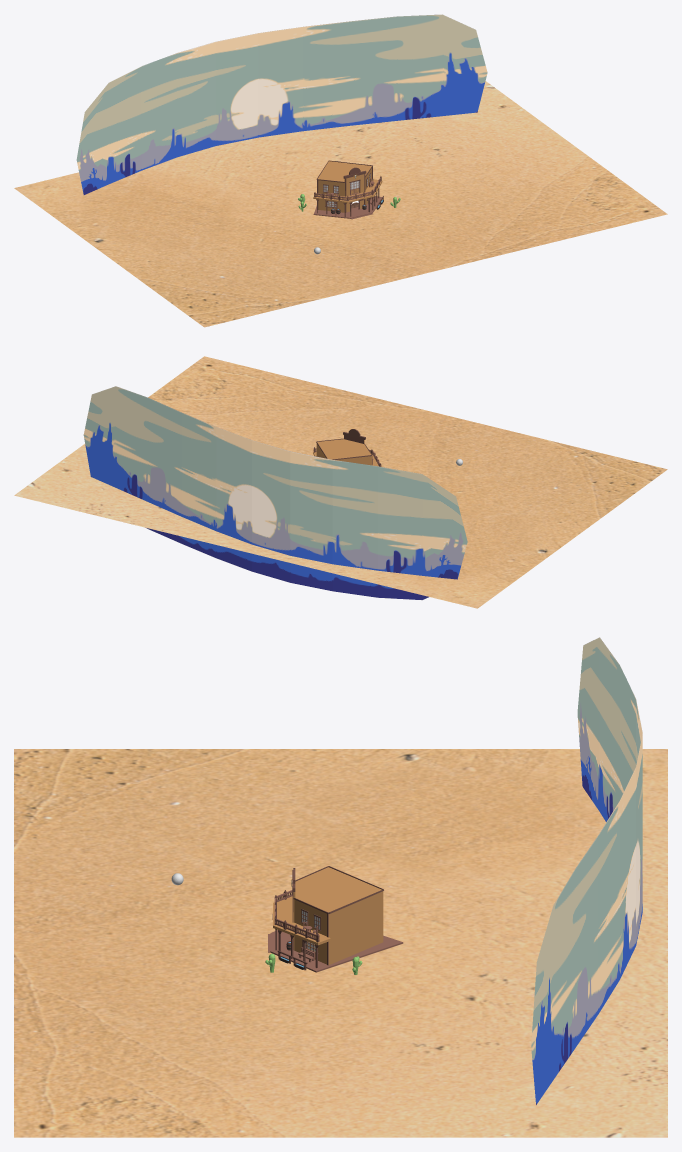
3 views of the same model, one above another, from view 1: azimuth 30°, elevation 25°; view 2: azimuth 150°, elevation 25°; view 3: azimuth 270°, elevation 25° (orthographic). The views are drawn at different scales.
Visible parts, largest first — view 1: Floor, Sky, Scene; view 2: Floor, Sky, Scene; view 3: Floor, Sky, Scene.
Part boxes in pixels (box(x1,y1,x2,y2)): Floor: box(14, 81, 667, 327); Sky: box(76, 14, 487, 194); Scene: box(298, 160, 400, 219); Floor: box(14, 356, 667, 608); Sky: box(83, 386, 467, 600); Scene: box(313, 429, 381, 466); Floor: box(14, 749, 667, 1137); Sky: box(531, 637, 642, 1104); Scene: box(265, 866, 403, 974).
Bounding box in the file's own units: 23.75 × 6.44 × 16.89.
Materials: 14 (2 with a texture image).
